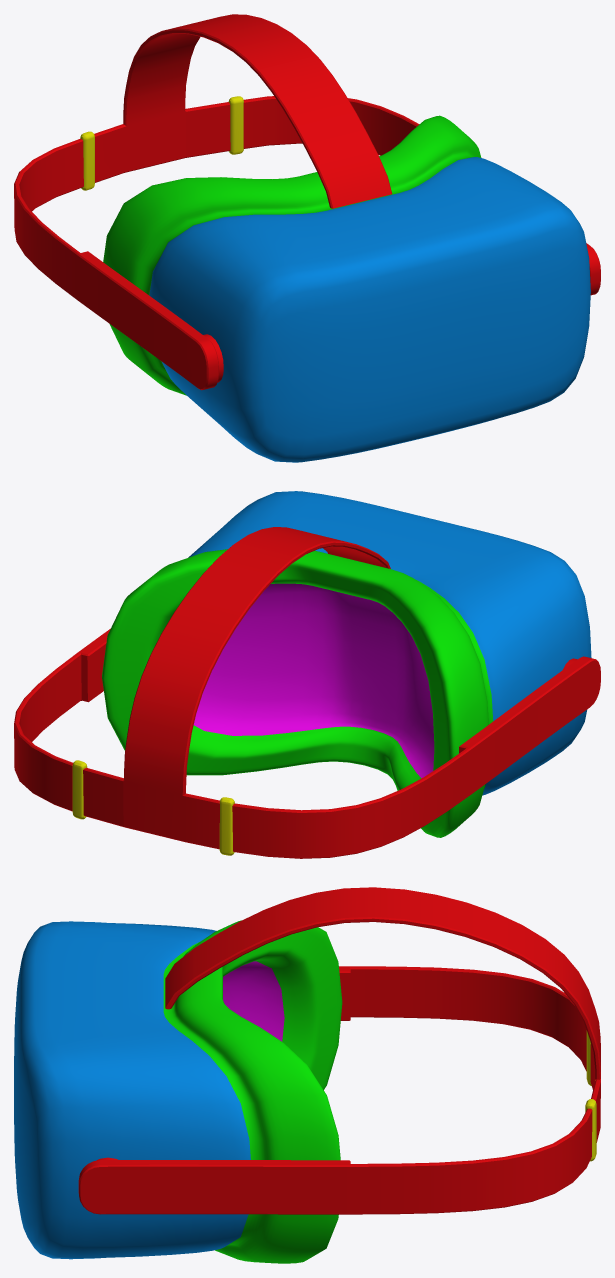
The model's file is oculus_headset.fbx.
3 renders of one model, top to bottom at view 1: azimuth 30°, elevation 25°; view 2: azimuth 150°, elevation 25°; view 3: azimuth 270°, elevation 25°, orthographic. The views are drawn at different scales.
Parts seen in each view (by area): view 1: Oculus_Headset; view 2: Oculus_Headset; view 3: Oculus_Headset.
Boxes of the visible parts, x1,y1,x2,y2 form: Oculus_Headset: (14,14,600,462); Oculus_Headset: (14,491,600,858); Oculus_Headset: (14,887,600,1263).
Bounding box in the file's own units: 18.14 × 12.77 × 22.5.
